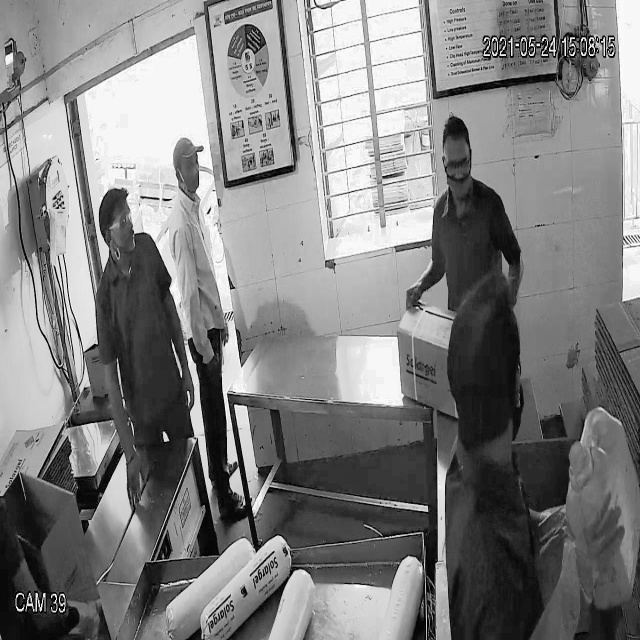Gafas: (441, 148, 473, 181), (99, 209, 133, 236)
Sin_gafas: (174, 155, 201, 180)
